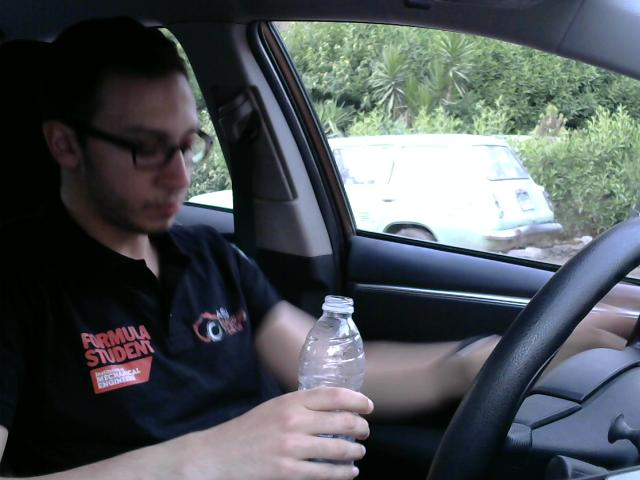Drinking: (278, 292, 372, 474)
